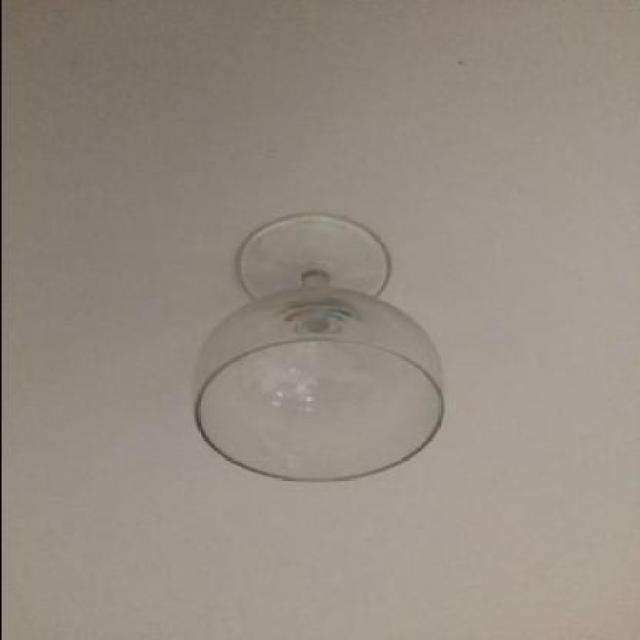GLASS: (193, 214, 445, 481)
